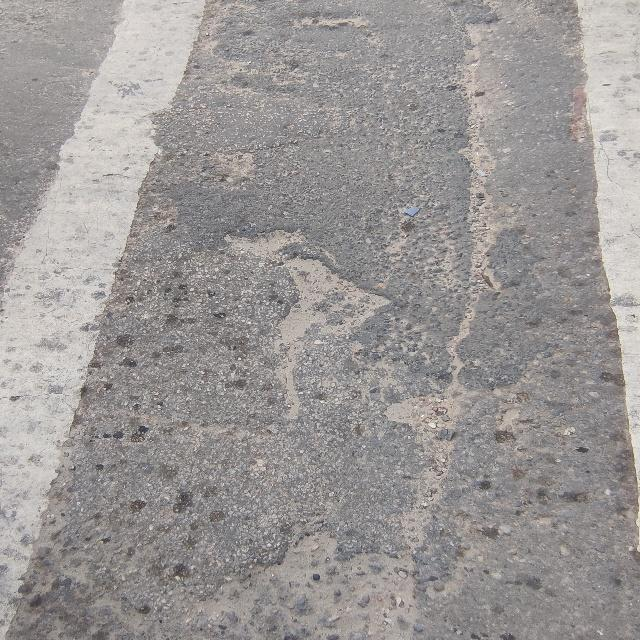Surface Erosion: (112, 50, 584, 640)
